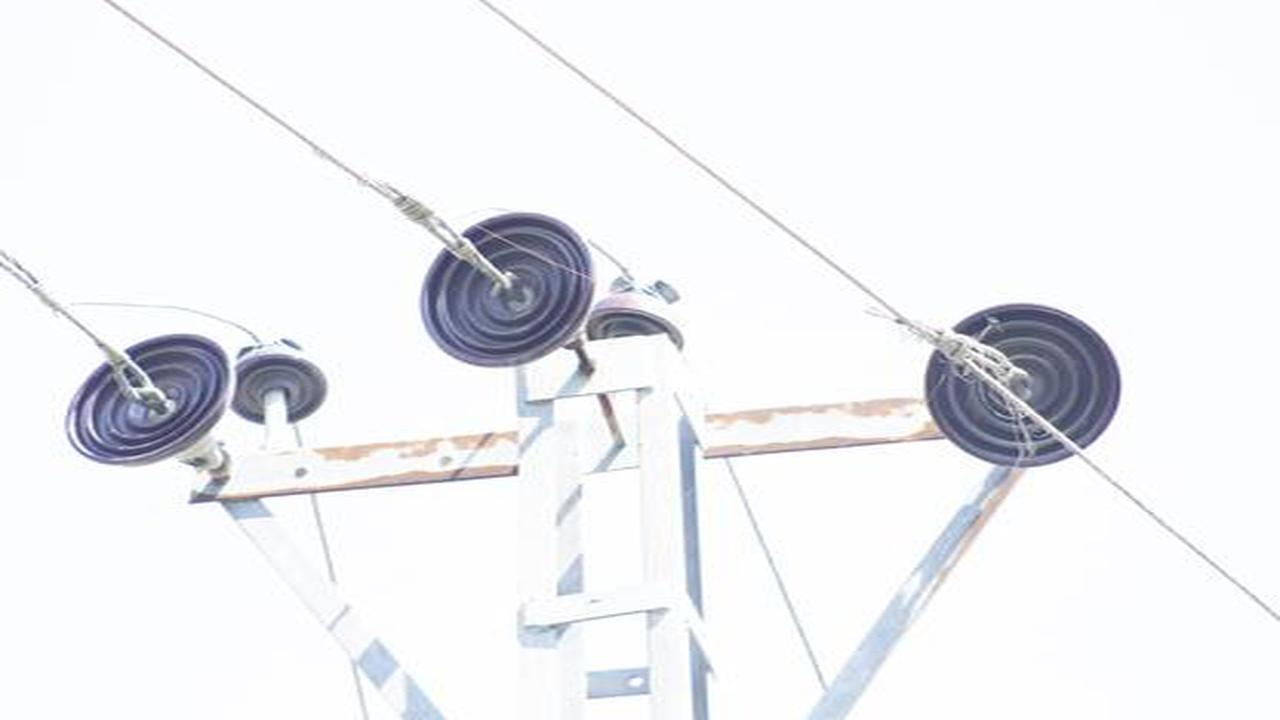insulator_disc: (924, 304, 1124, 471), (417, 214, 594, 368), (65, 328, 228, 458)
insulator_pin: (591, 265, 692, 346), (234, 341, 332, 417)
